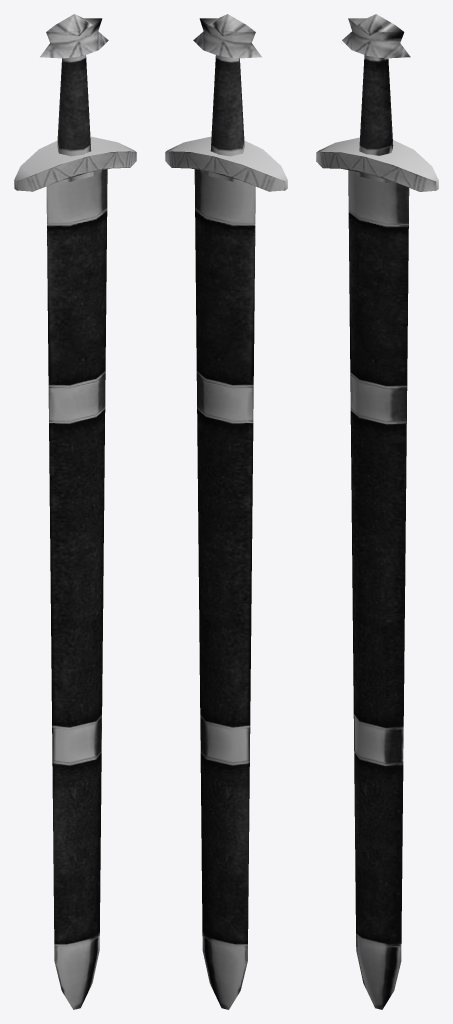
The model's file is Sword and Scabbard_LOD01.fbx.
The picture shows the model from 3 angles, left to right: view 1: azimuth 30°, elevation 25°; view 2: azimuth 150°, elevation 25°; view 3: azimuth 330°, elevation 25°; orthographic projection.
Parts seen in each view (by area): view 1: Mesh Object, Mesh Object_ncl1_1; view 2: Mesh Object, Mesh Object_ncl1_1; view 3: Mesh Object, Mesh Object_ncl1_1.
Boxes of the visible parts, x1,y1,x2,y2 form: Mesh Object: (46,169,107,1009); Mesh Object_ncl1_1: (14,14,136,191); Mesh Object: (194,169,255,1009); Mesh Object_ncl1_1: (165,14,287,191); Mesh Object: (348,170,409,1009); Mesh Object_ncl1_1: (316,14,438,191).
Bounding box in the file's own units: 0.132 × 1.05 × 0.0481.
